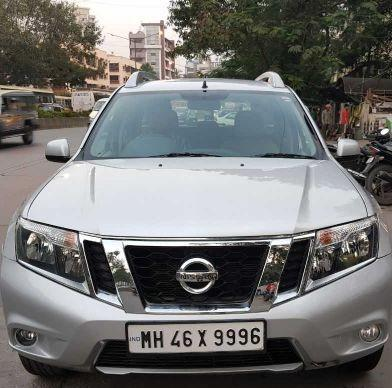License-Plate: (121, 317, 267, 354)
